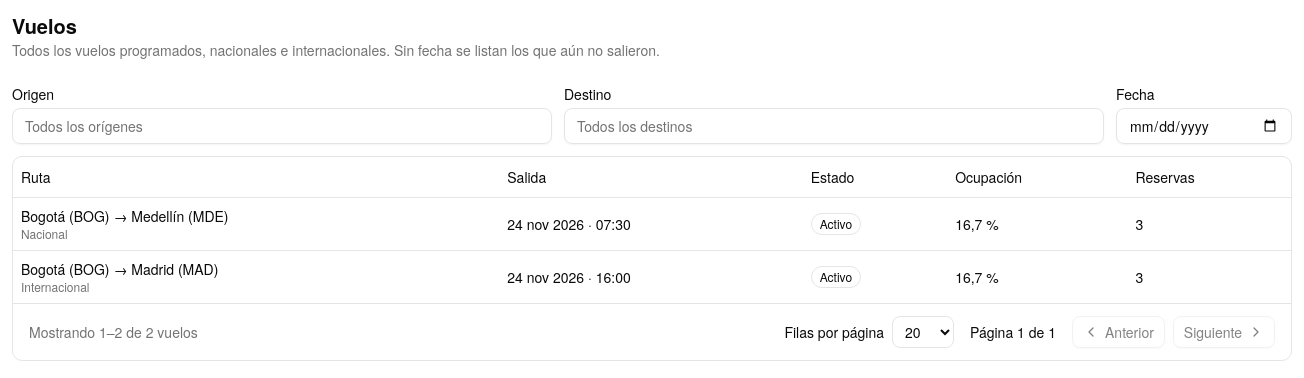
sección Vuelos › ofrece todos los aeropuertos, nacionales e internacionales, en origen y destino
Expected: the text "Mostrando 1–2 de 2 vuelos" is shown, 29,322 -> 198,342
What coordinates should you click on to do the following:
click the dropdown labelled "Destino"
I would click on:
 (834, 126)
Its box is 564,108 -> 1104,144.
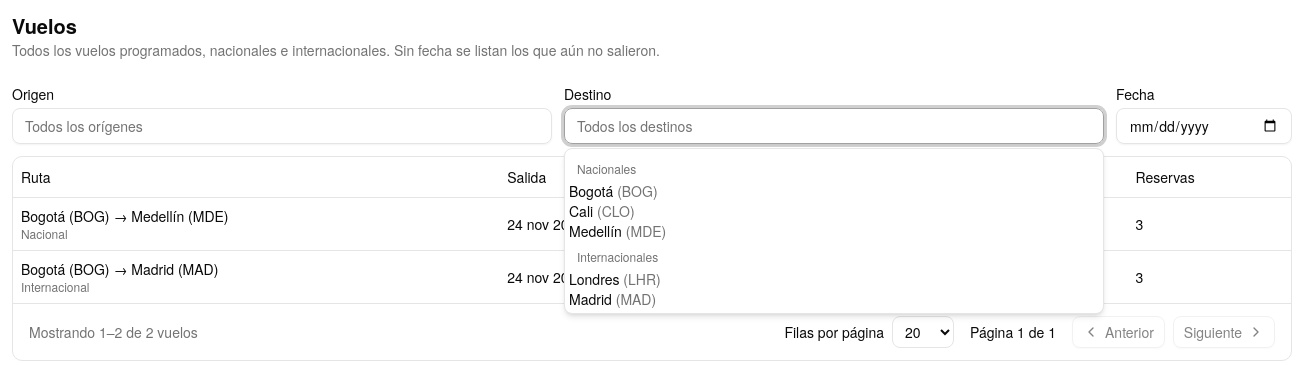
Expected: the options read "Bogotá (BOG)", "Cali (CLO)", "Medellín (MDE)", "Londres (LHR)", "Madrid (MAD)", in this order, 569,181 -> 658,201; 569,201 -> 635,221; 569,221 -> 666,241; 569,269 -> 661,289; 569,289 -> 656,309
